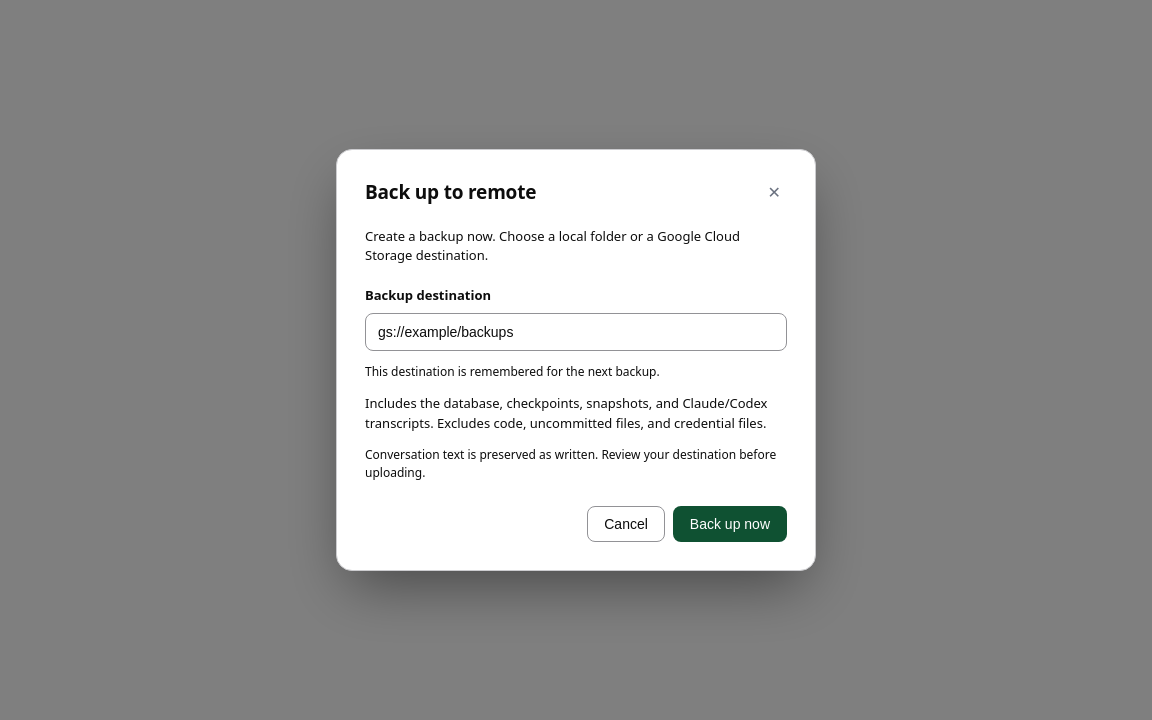
loads the remembered destination without starting a backup and prevents duplicate starts
Check: the field showing "gs://example/backups" is shown, box [365,313,787,351]
What coordinates should you click on to do the following:
click the button "Back up now"
I would click on:
 (730, 524)
Its box is [673,506,787,542].
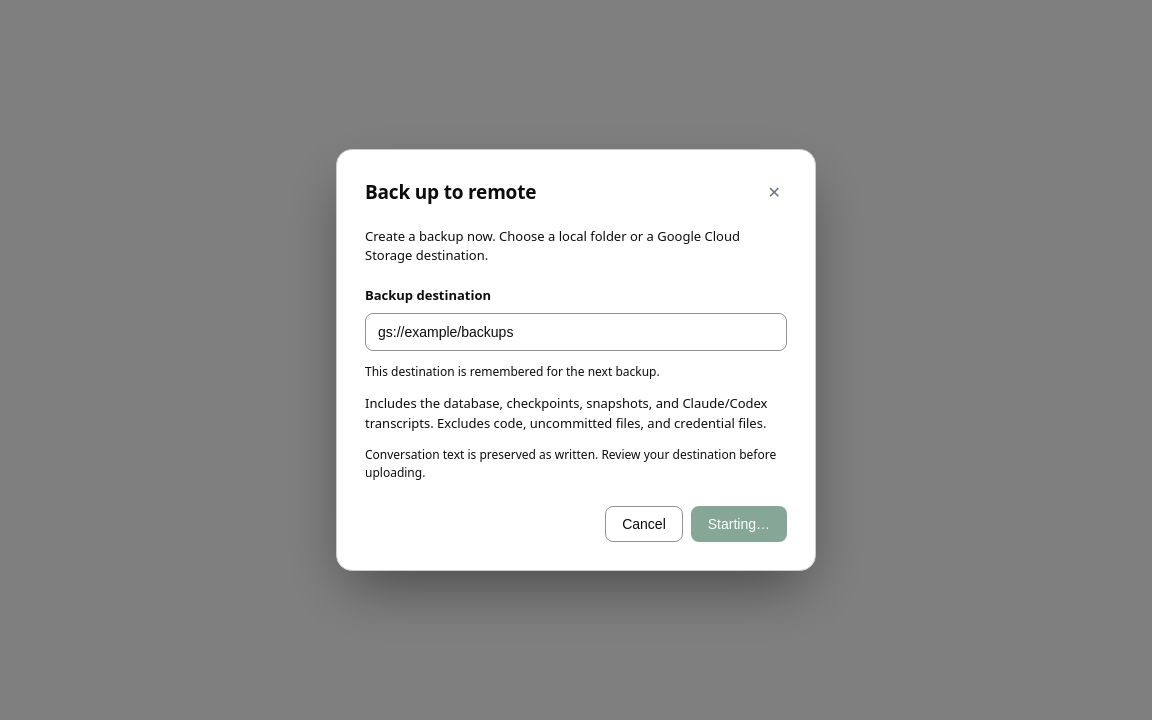
What coordinates should you click on to do the following:
click the button named "Back up now"
I would click on:
 (739, 524)
Its box is [691,506,787,542].
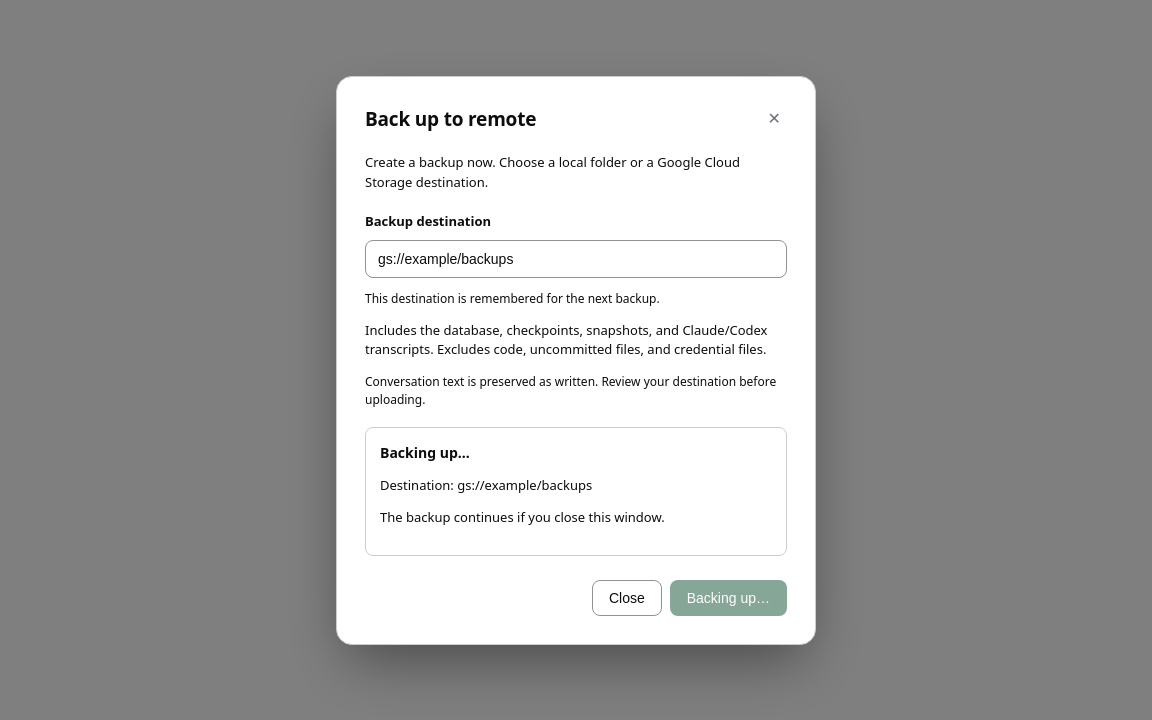
Check: the field showing "gs://example/backups" is disabled, box [365,240,787,278]
Check: the text "The backup continues if you close this window." is shown, box [380,508,665,526]
